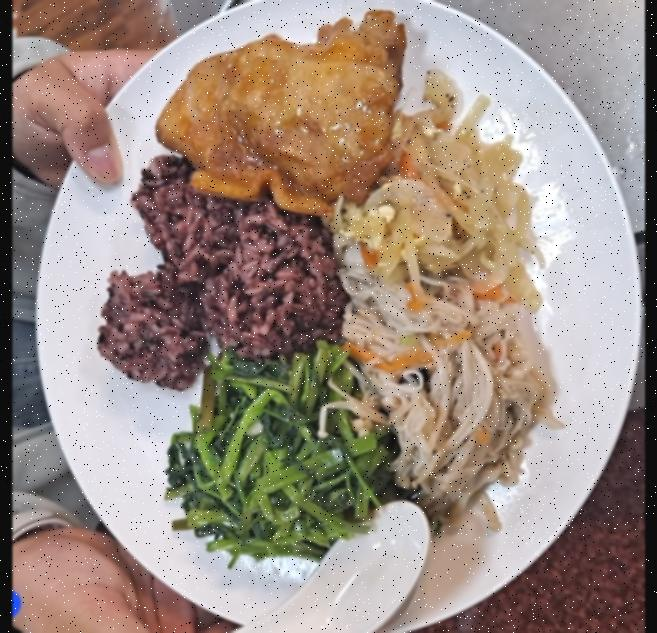big fried chicken leg: (39, 0, 645, 633)
braised fish: (94, 154, 351, 390)
braised fish fillet: (170, 348, 395, 564), (342, 280, 538, 504), (342, 110, 536, 276)
braised pork: (150, 8, 411, 212)
